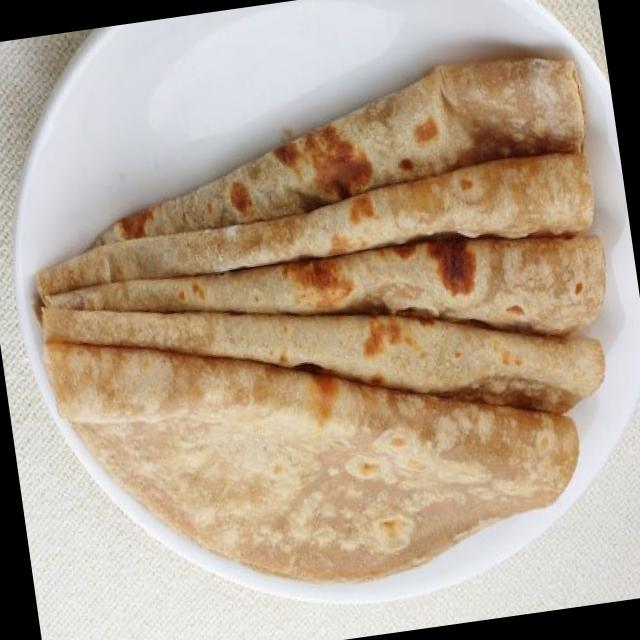roti: (34, 54, 609, 588)
